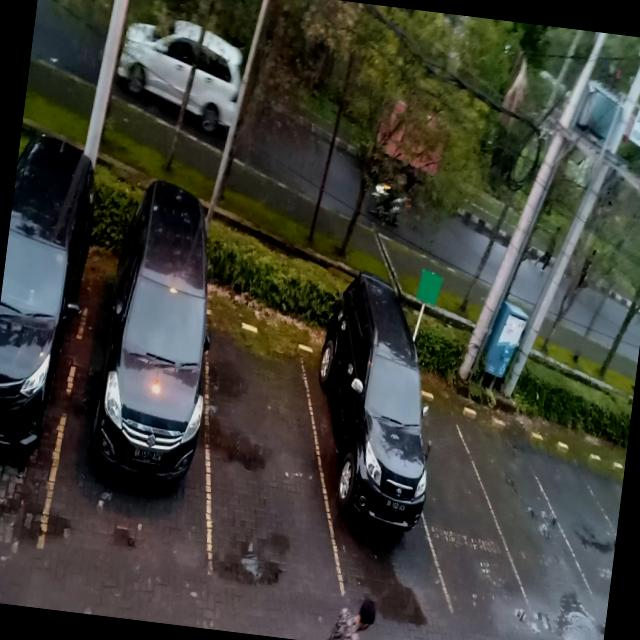car: (48, 180, 242, 572), (284, 294, 468, 612), (0, 133, 101, 554)
free: (186, 316, 354, 594), (392, 399, 528, 626), (466, 414, 586, 622), (526, 446, 622, 609)
